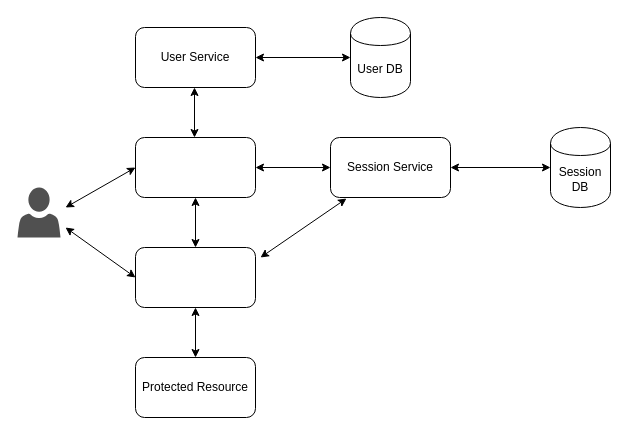
Image size: 628x435. Some labels were removed from this diagram. Here are the shapes that lost their labels. From the top down, the centre of each, then its label:
At [195,167]: "Auth Service".
At [195,277]: "Gateway Service".
